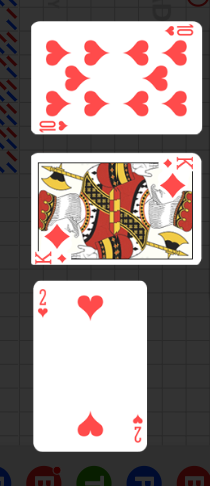10H: (162, 24, 195, 38)
2H: (130, 412, 144, 444), (37, 288, 50, 320)
